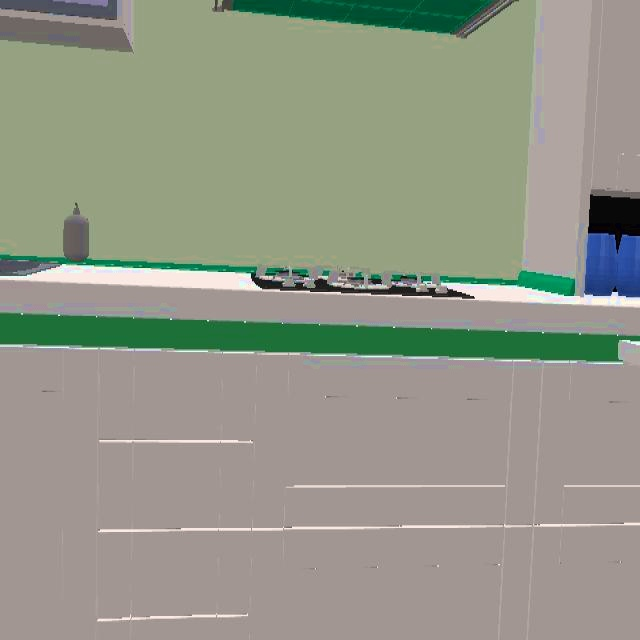cabinet: (0, 346, 640, 638)
countertop: (0, 263, 640, 361)
stove: (251, 265, 470, 298)
